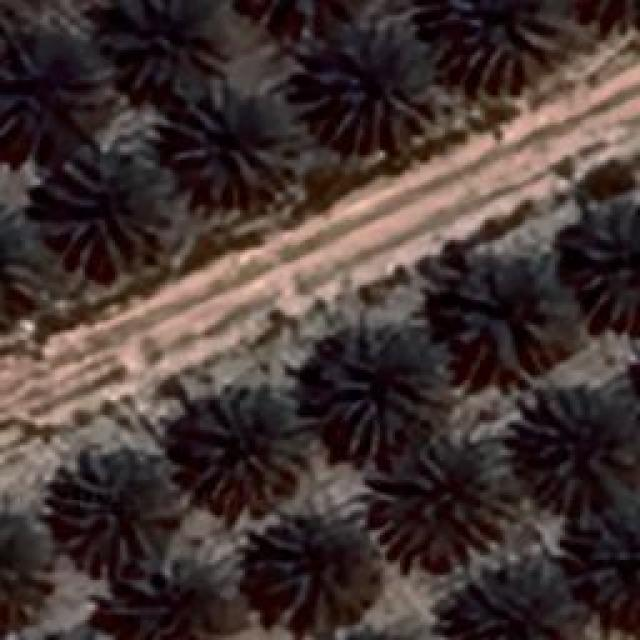PalmTree: (82, 75, 168, 600), (23, 111, 82, 570), (368, 438, 518, 570), (290, 15, 435, 150), (308, 322, 450, 450), (182, 390, 310, 512), (170, 80, 292, 205), (52, 450, 178, 570), (45, 150, 160, 265), (0, 28, 105, 148), (450, 265, 562, 365), (258, 522, 372, 620), (108, 0, 228, 88), (528, 385, 630, 485), (441, 554, 564, 636), (450, 0, 562, 88), (574, 195, 638, 330), (570, 501, 640, 624), (0, 207, 48, 325), (233, 0, 370, 20), (565, 0, 640, 30), (0, 0, 36, 52), (566, 0, 640, 20)
